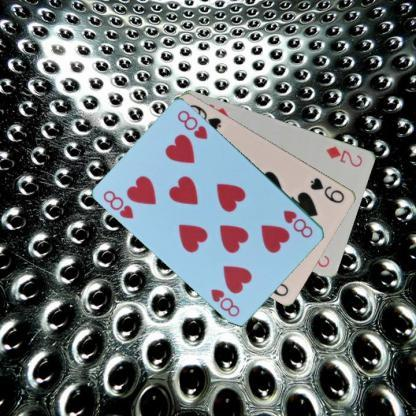2d: (324, 143, 364, 168)
8h: (280, 208, 314, 240), (101, 188, 135, 220)
9s: (308, 175, 346, 205)
